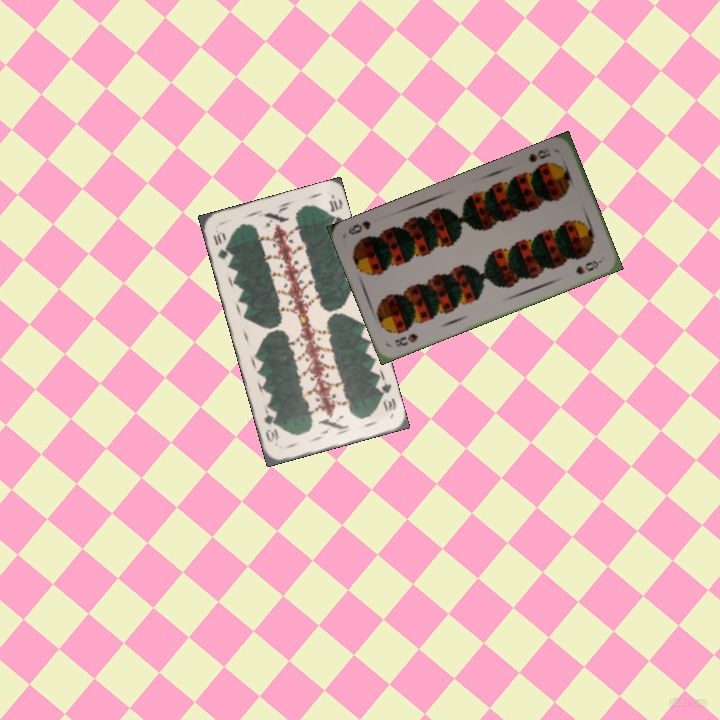G10: (374, 379, 399, 414), (209, 228, 232, 262)
S8: (391, 329, 420, 350), (525, 145, 553, 165)
